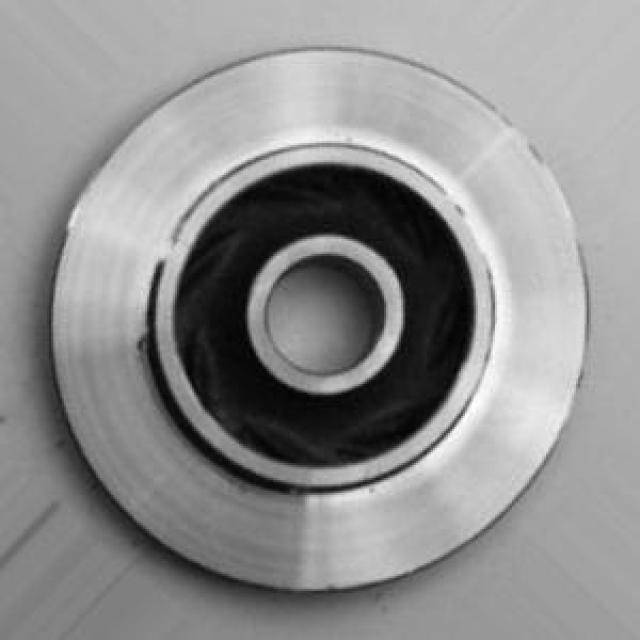Defect: (127, 318, 152, 368)
